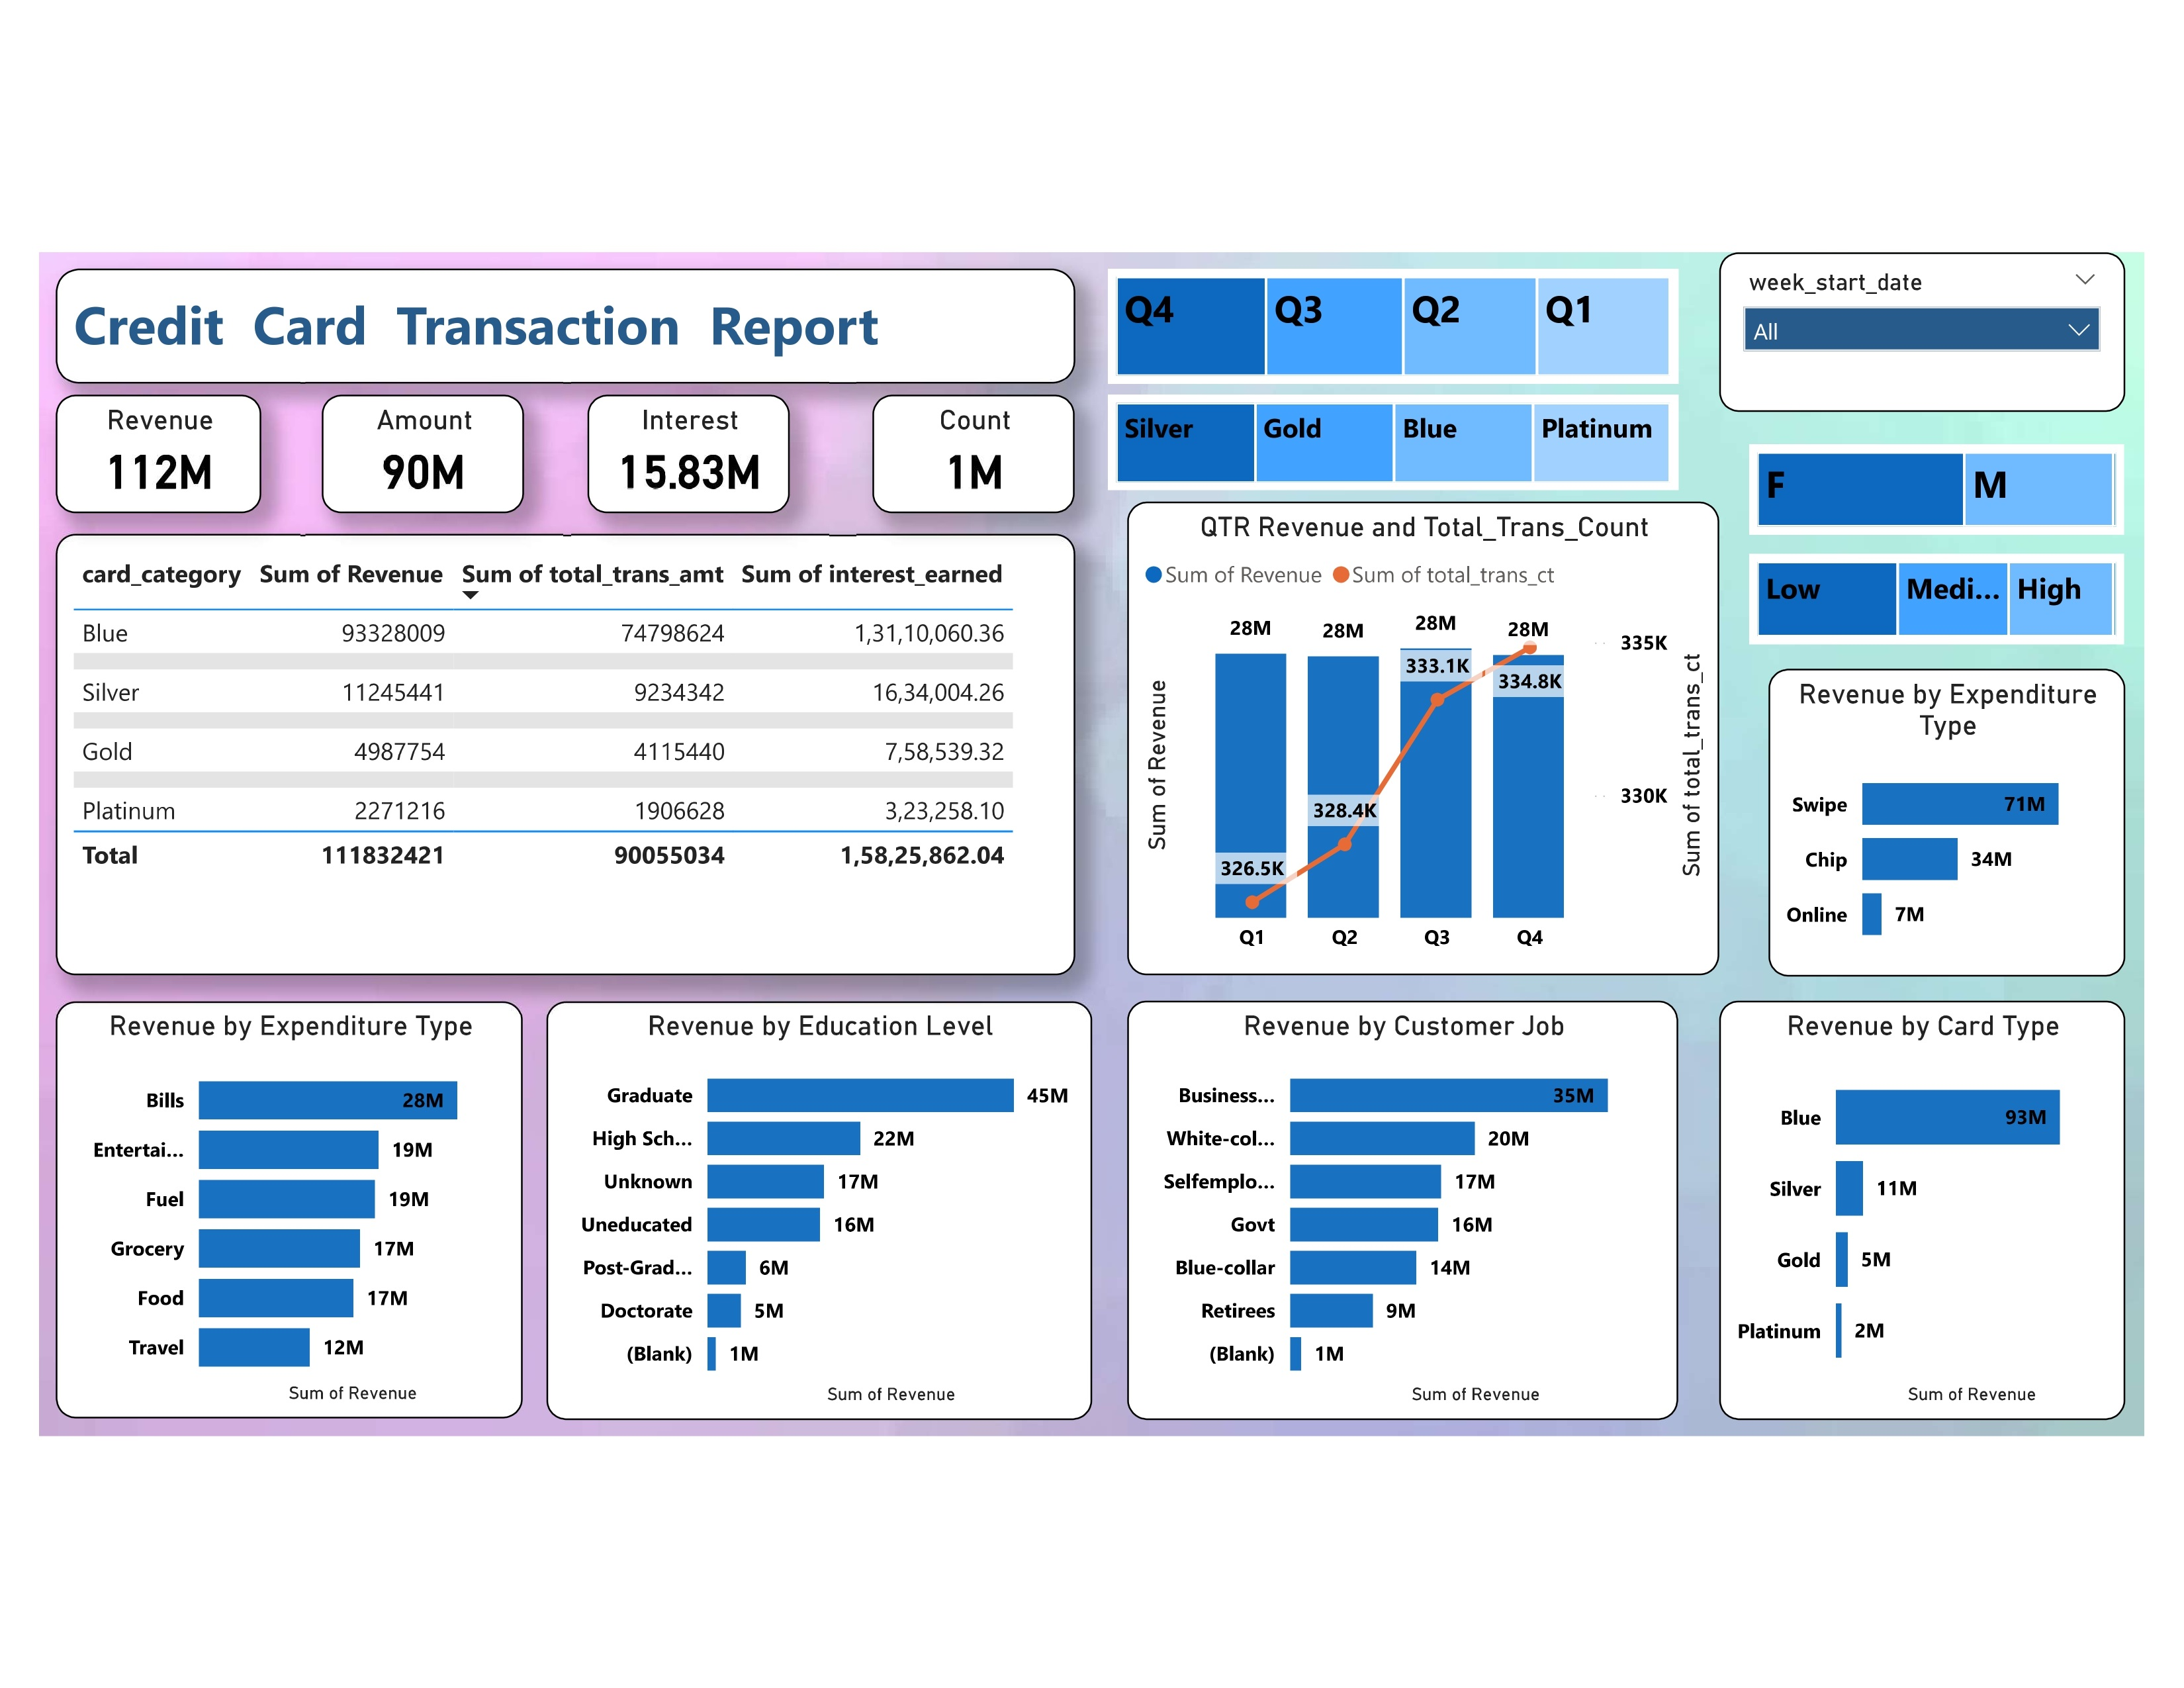

What the dashboard file says about the page in this screenshot:
{"tool":"powerbi","page":{"name":"CC Transaction","canvas":[1280,720],"ordinal":1},"visuals":[{"type":"textbox","box":[10,10,620,70],"z":0},{"type":"lineStackedColumnComboChart","title":"QTR  Revenue and Total_Trans_Count","fields":{"Category":["public cc_detail.qtr"],"Y":["Sum(public cc_detail.Revenue)"],"Y2":["Sum(public cc_detail.total_trans_ct)"]},"box":[661.7,151.7,360,288.3],"z":1000},{"type":"barChart","title":"Revenue by Expenditure Type","fields":{"Y":["Sum(public cc_detail.Revenue)"],"Category":["public cc_detail.exp_type"]},"box":[10,455.7,284.3,254.3],"z":2000},{"type":"barChart","title":"Revenue by Education Level","fields":{"Y":["Sum(public cc_detail.Revenue)"],"Category":["public cust_detail.education_level"]},"box":[308.3,455,331.7,255],"z":3000},{"type":"barChart","title":"Revenue by Customer Job","fields":{"Y":["Sum(public cc_detail.Revenue)"],"Category":["public cust_detail.customer_job"]},"box":[661.7,455,335,255],"z":4000},{"type":"barChart","title":"Revenue by Card Type","fields":{"Y":["Sum(public cc_detail.Revenue)"],"Category":["public cc_detail.card_category"]},"box":[1021.7,455,246.7,255],"z":5000},{"type":"barChart","title":"Revenue by Expenditure Type","fields":{"Y":["Sum(public cc_detail.Revenue)"],"Category":["public cc_detail.use_chip"]},"box":[1051.7,253.3,216.7,186.7],"z":6000},{"type":"tableEx","fields":{"Values":["public cc_detail.card_category","Sum(public cc_detail.Revenue)","Sum(public cc_detail.total_trans_amt)","Sum(public cc_detail.interest_earned)"]},"box":[10,171.7,620,268.3],"z":7000},{"type":"card","title":"Revenue","fields":{"Values":["Sum(public cc_detail.Revenue)"]},"box":[10,86.7,125,71.7],"z":8000},{"type":"card","title":"Amount","fields":{"Values":["Sum(public cc_detail.total_trans_amt)"]},"box":[171.7,86.7,123.3,71.7],"z":9000},{"type":"card","title":"Interest","fields":{"Values":["Sum(public cc_detail.interest_earned)"]},"box":[333.3,86.7,123.3,71.7],"z":10000},{"type":"card","title":"Count","fields":{"Values":["Sum(public cc_detail.total_trans_ct)"]},"box":[506.7,86.7,123.3,71.7],"z":11000},{"type":"slicer","fields":{"Values":["public cc_detail.week_start_date"]},"box":[1021.7,0,246.7,96.7],"z":12000},{"type":"treemap","fields":{"Group":["public cc_detail.qtr"],"Values":["Avg(public cc_detail.client_num)"]},"box":[650,10,346.7,70],"z":13000},{"type":"treemap","fields":{"Values":["Avg(public cc_detail.client_num)"],"Group":["public cc_detail.card_category"]},"box":[650,86.7,346.7,58.3],"z":14000},{"type":"treemap","fields":{"Group":["public cust_detail.gender"],"Values":["CountNonNull(public cc_detail.client_num)"]},"box":[1040,116.7,228.3,55],"z":15000},{"type":"treemap","fields":{"Values":["CountNonNull(public cc_detail.client_num)"],"Group":["public cust_detail.IncomeGroup"]},"box":[1040,183.3,228.3,55],"z":16000}]}

Visuals, with their boxes on the page's 1280x720 design canvas (x1, y1, x2, y2). These are canvas units, not pixel positions in the 2184x1688 screenshot, which may show the page scaled, cropped or inside an application window:
textbox: x1=10, y1=10, x2=630, y2=80
"QTR  Revenue and Total_Trans_Count" lineStackedColumnComboChart: x1=662, y1=152, x2=1022, y2=440
"Revenue by Expenditure Type" barChart: x1=10, y1=456, x2=294, y2=710
"Revenue by Education Level" barChart: x1=308, y1=455, x2=640, y2=710
"Revenue by Customer Job" barChart: x1=662, y1=455, x2=997, y2=710
"Revenue by Card Type" barChart: x1=1022, y1=455, x2=1268, y2=710
"Revenue by Expenditure Type" barChart: x1=1052, y1=253, x2=1268, y2=440
tableEx - public cc_detail.card_category x Sum(public cc_detail.Revenue): x1=10, y1=172, x2=630, y2=440
"Revenue" card: x1=10, y1=87, x2=135, y2=158
"Amount" card: x1=172, y1=87, x2=295, y2=158
"Interest" card: x1=333, y1=87, x2=457, y2=158
"Count" card: x1=507, y1=87, x2=630, y2=158
slicer - public cc_detail.week_start_date: x1=1022, y1=0, x2=1268, y2=97
treemap - public cc_detail.qtr x Avg(public cc_detail.client_num): x1=650, y1=10, x2=997, y2=80
treemap - Avg(public cc_detail.client_num) x public cc_detail.card_category: x1=650, y1=87, x2=997, y2=145
treemap - public cust_detail.gender x CountNonNull(public cc_detail.client_num): x1=1040, y1=117, x2=1268, y2=172
treemap - CountNonNull(public cc_detail.client_num) x public cust_detail.IncomeGroup: x1=1040, y1=183, x2=1268, y2=238
